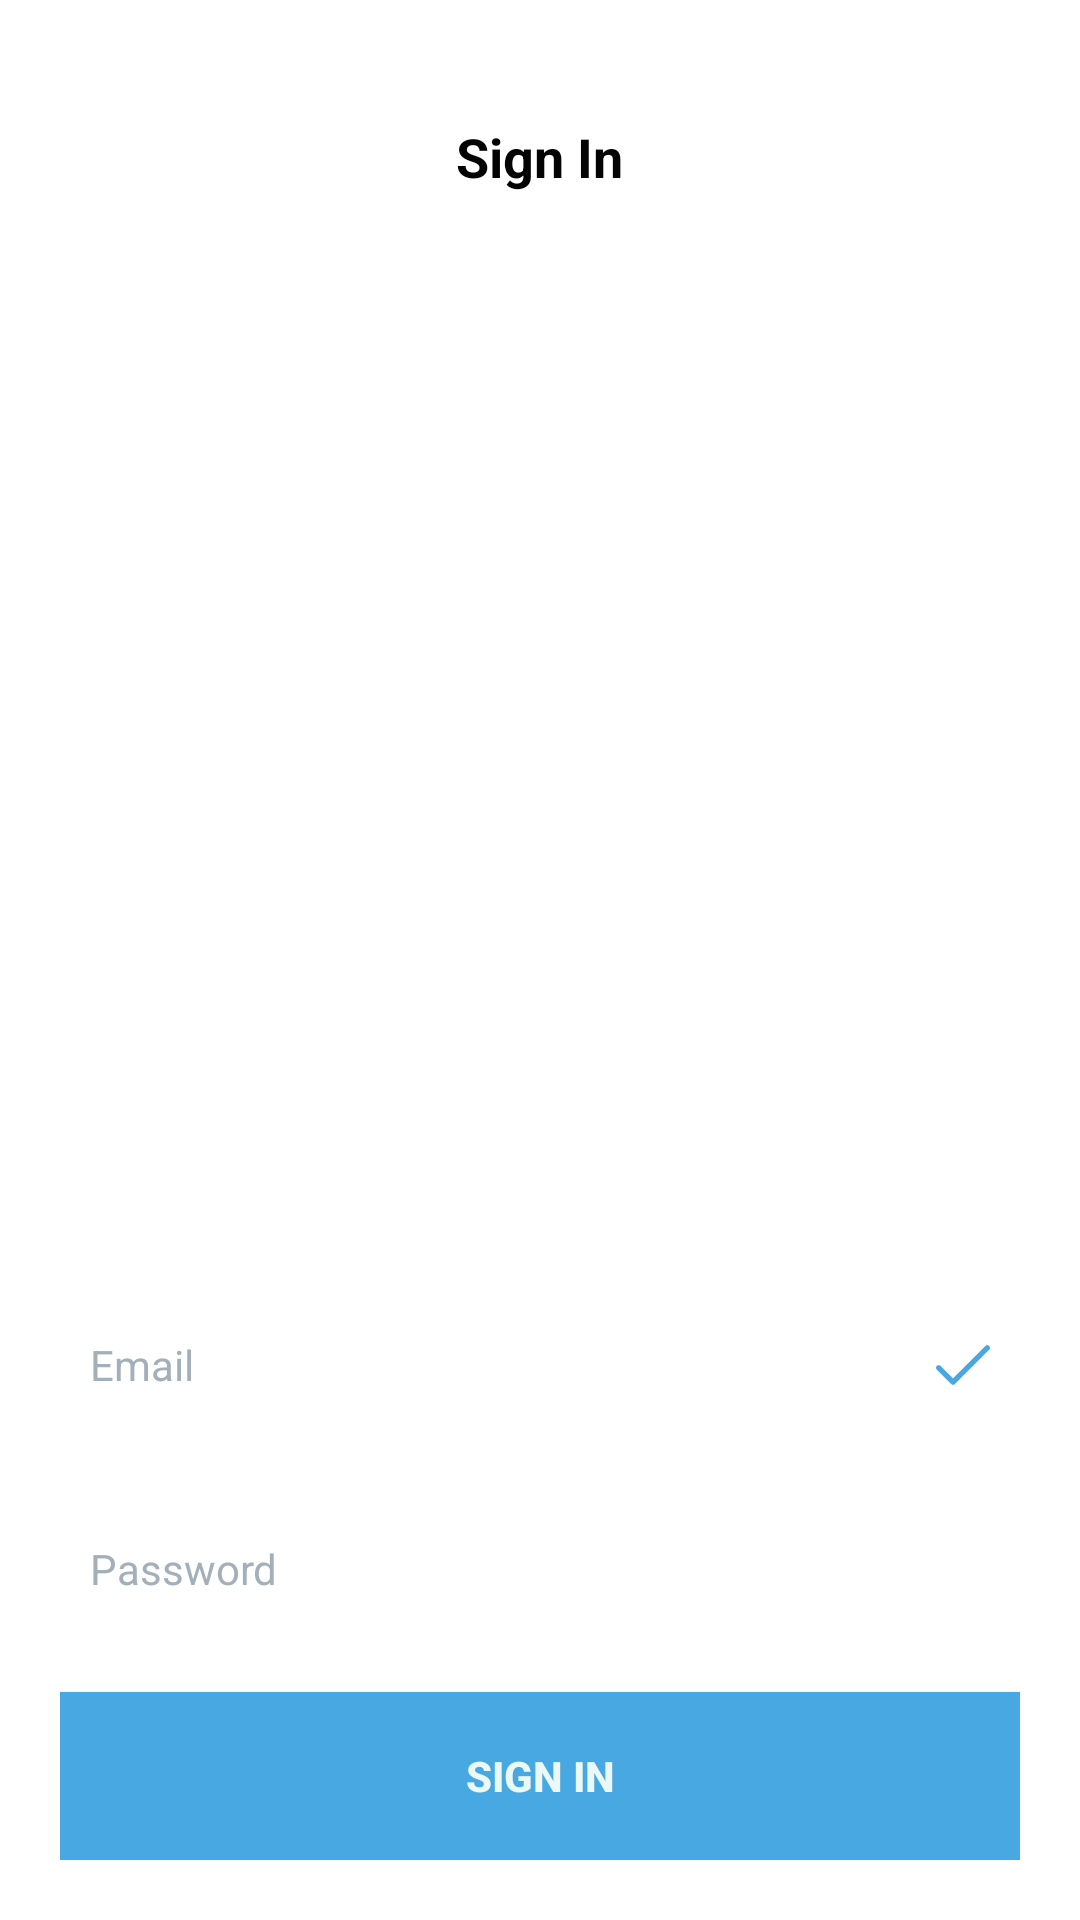

Where icons sit on this 1080w x 1920h app screen, as (x1, y1, x2, y2):
checkmark: (936, 1345, 990, 1385)
